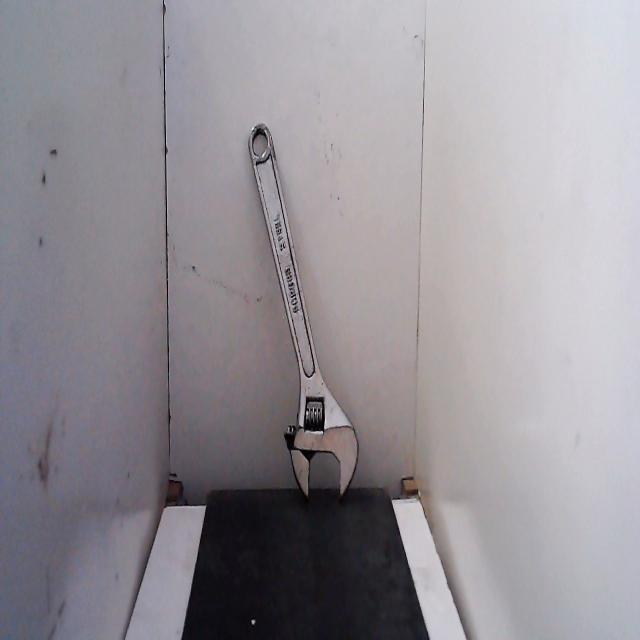metal: (238, 107, 375, 530)
